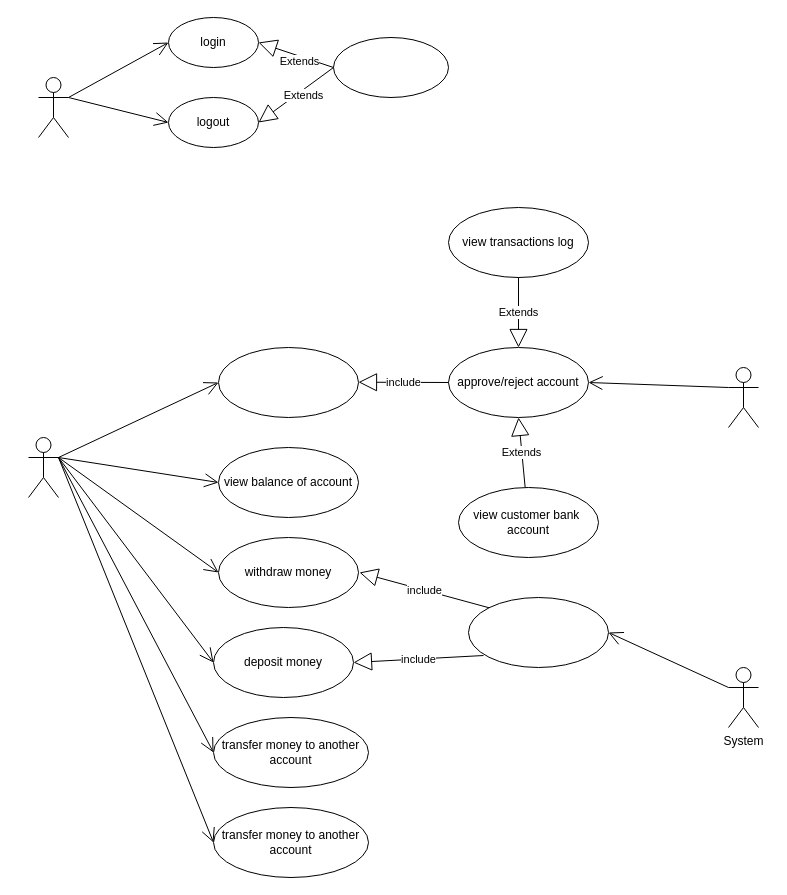
Some shapes in this 787 by 895 pixel diagram are drawn without their labels. Here are the shapes that lost their labels. From the top down, the box of each, then its label:
(332, 36, 448, 98): Register for for customer account
(38, 76, 68, 138): user
(218, 346, 358, 418): apply for new bank account
(728, 366, 758, 428): Employee
(28, 436, 58, 498): Customer
(468, 596, 608, 668): reject invalid transaction
